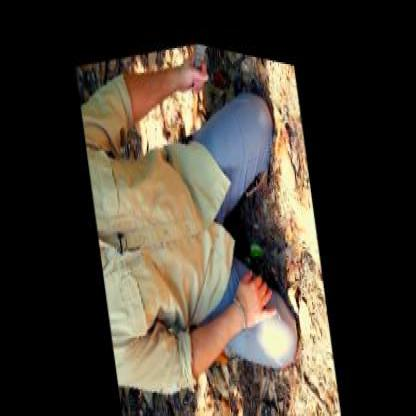knife: (184, 33, 227, 95)
